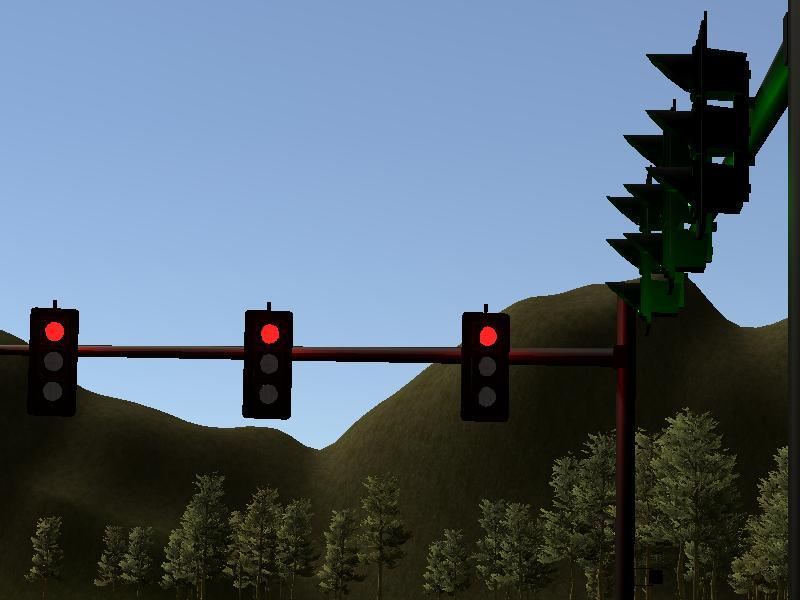Red: (462, 312, 508, 421), (245, 310, 291, 418), (29, 307, 75, 412)
